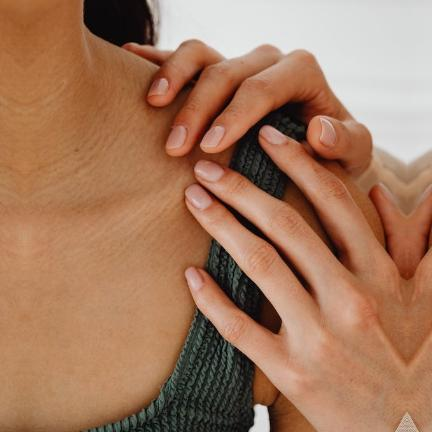Nail: (185, 186, 212, 210), (184, 266, 206, 295), (194, 161, 224, 182), (377, 182, 400, 207), (165, 124, 187, 150), (200, 126, 225, 148), (260, 126, 288, 145), (319, 117, 337, 146), (413, 183, 432, 207), (147, 77, 169, 96)
